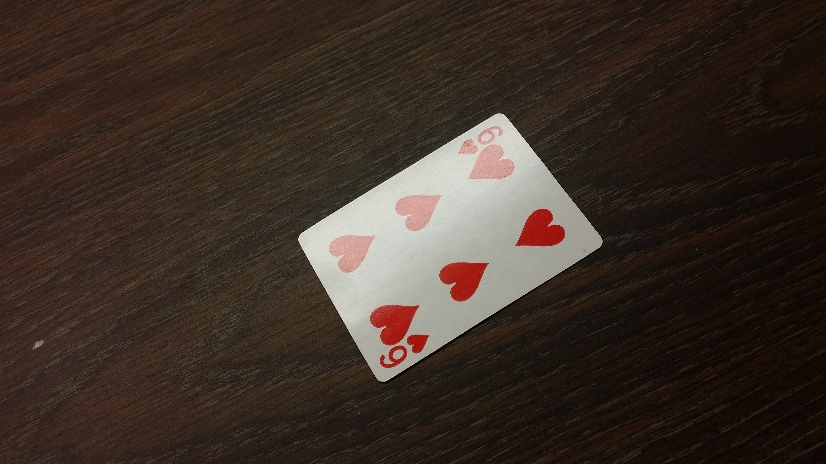H6: (379, 335, 431, 368), (458, 125, 505, 154)
